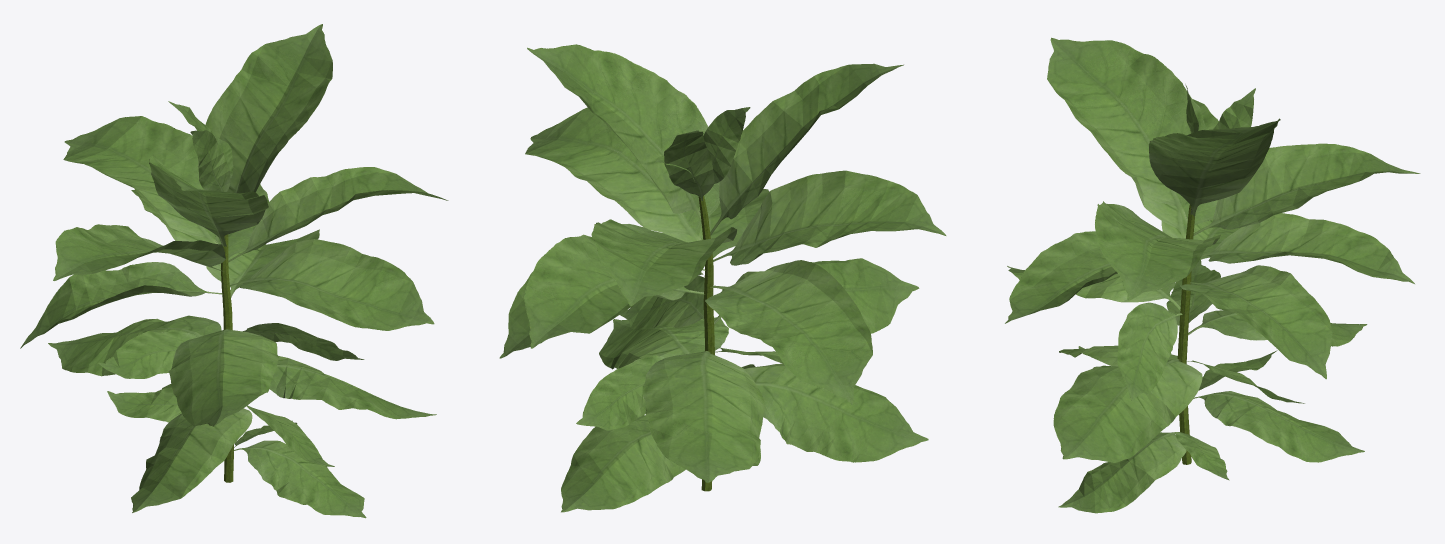
Rendered from tobacco_variant_2.dae.
3 renders of one model, left to right at view 1: azimuth 30°, elevation 25°; view 2: azimuth 150°, elevation 25°; view 3: azimuth 270°, elevation 25°, orthographic. The views are drawn at different scales.
Visible parts, largest first — view 1: Leaves, Stem; view 2: Leaves, Stem; view 3: Leaves, Stem.
Boxes of the visible parts, bbox=[...] form: Leaves: bbox=[20, 24, 448, 518]; Stem: bbox=[221, 234, 233, 482]; Leaves: bbox=[499, 44, 946, 512]; Stem: bbox=[698, 196, 714, 491]; Leaves: bbox=[1005, 37, 1420, 513]; Stem: bbox=[1177, 205, 1195, 464].
Size of the model in its own units: 0.5598 by 0.5335 by 0.5632.
